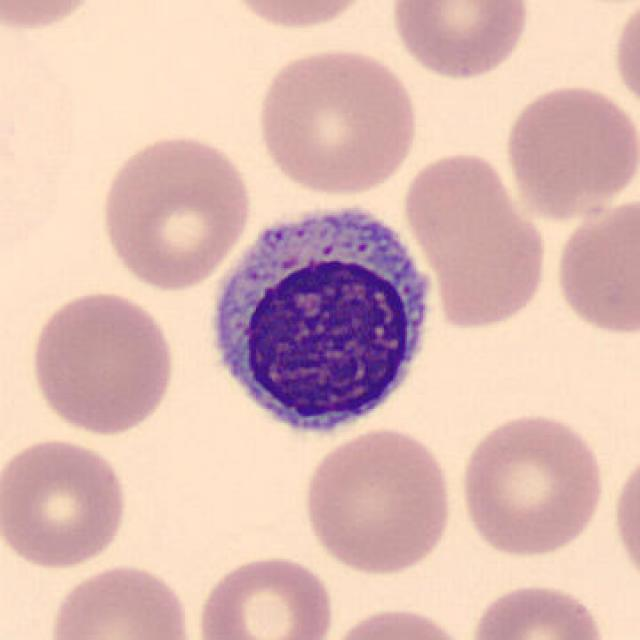Lymphocyte: (198, 194, 444, 448)
RBC: (400, 145, 551, 333), (251, 42, 423, 198), (94, 130, 256, 292), (299, 425, 455, 578), (455, 407, 608, 561), (25, 288, 179, 438), (499, 80, 636, 220), (0, 434, 132, 573), (551, 192, 640, 340), (192, 550, 338, 640), (45, 559, 199, 640), (386, 0, 535, 83), (466, 578, 612, 640), (322, 603, 471, 640), (216, 0, 382, 33), (608, 444, 640, 594), (0, 0, 108, 37), (610, 0, 640, 116)
